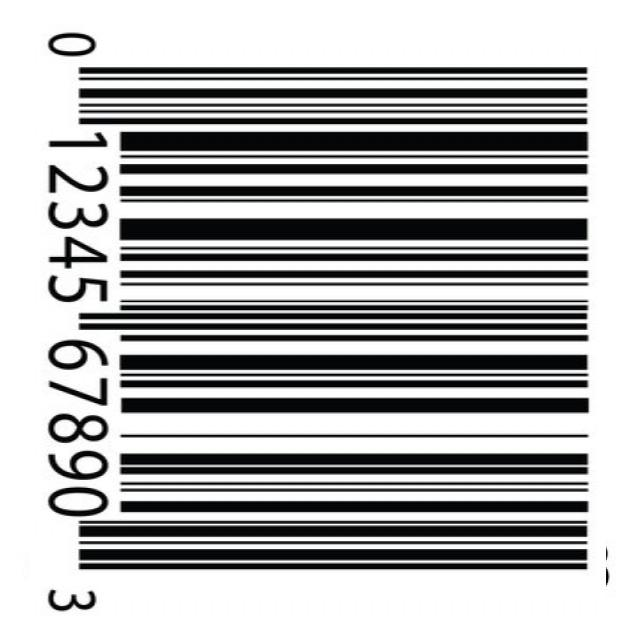Barkod: (26, 28, 610, 613)
